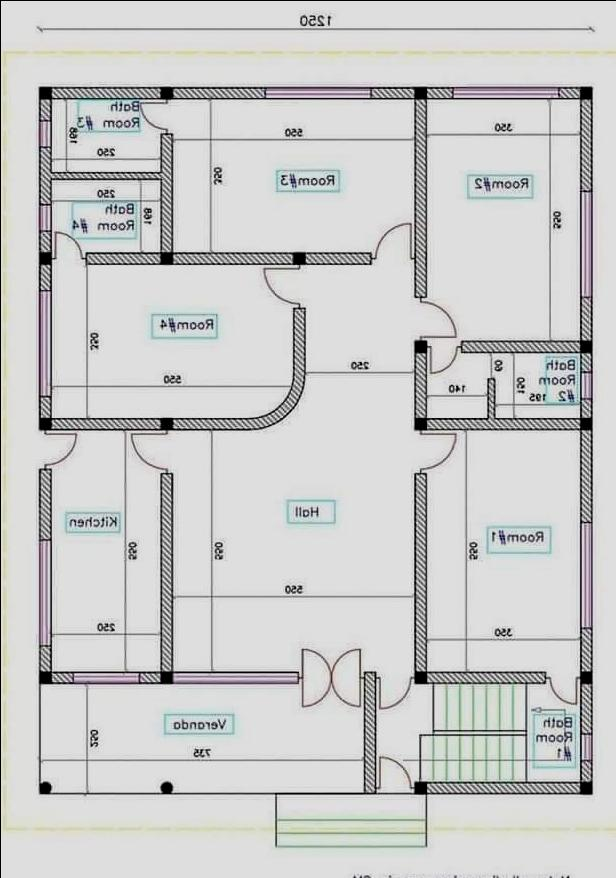Blueprint: (30, 74, 600, 802)
wall: (411, 94, 428, 298), (158, 469, 174, 674), (412, 470, 428, 674), (424, 779, 582, 797), (425, 415, 581, 431), (360, 668, 377, 795), (168, 668, 301, 684), (458, 338, 582, 354), (170, 250, 294, 266), (424, 669, 546, 684), (48, 414, 162, 430), (159, 130, 173, 254), (48, 83, 162, 98), (577, 96, 594, 194), (47, 168, 164, 182), (576, 428, 593, 524), (170, 84, 266, 100), (35, 466, 53, 542), (82, 250, 162, 266), (300, 250, 373, 266), (412, 350, 428, 420), (37, 144, 52, 206), (577, 681, 593, 738), (578, 624, 594, 673), (578, 294, 594, 342), (368, 84, 416, 100), (484, 376, 496, 420), (424, 84, 456, 100), (37, 261, 52, 292), (37, 642, 52, 673), (578, 756, 594, 784), (555, 84, 582, 100), (578, 348, 594, 374), (136, 669, 163, 684), (37, 229, 53, 254), (36, 96, 51, 122), (37, 393, 52, 419), (577, 396, 593, 420), (49, 669, 74, 684)
